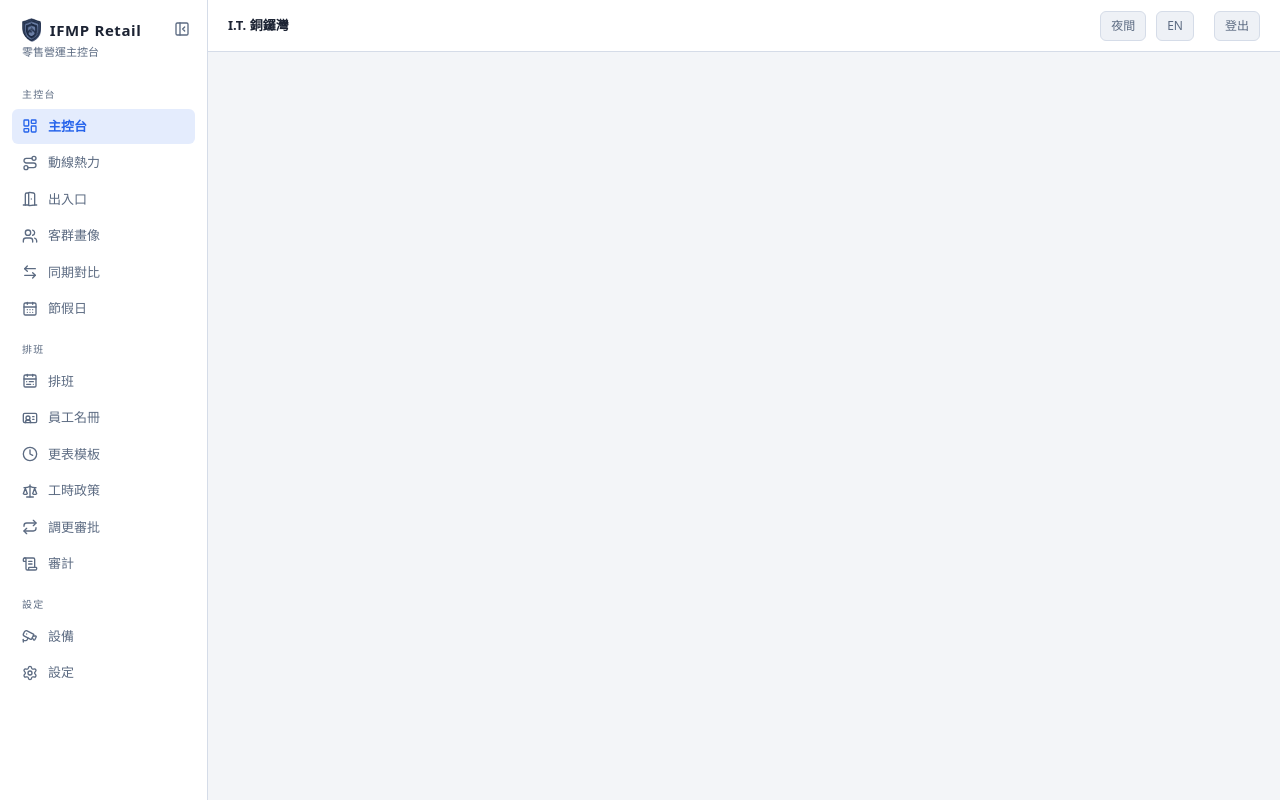
collapsing the rail keeps the mark and drops the words
Click the button with test id "flow-nav-collapse".
click(182, 29)  # box x1=169 y1=16 x2=195 y2=42
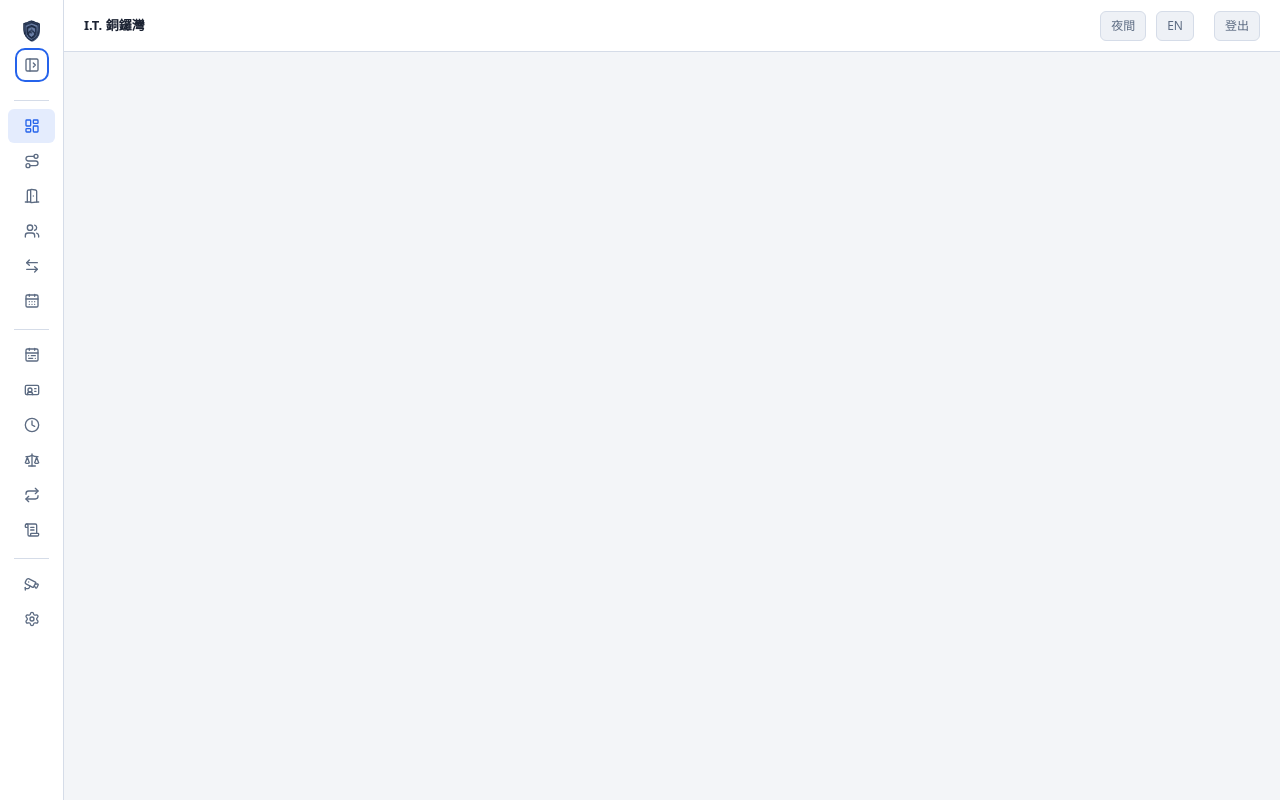
Expected: the navigation bar named "IFMP Retail" is shown, x1=0 y1=0 x2=64 y2=799
Result: the text "IFMP Retail" is gone
Result: the text "零售營運主控台" is gone
